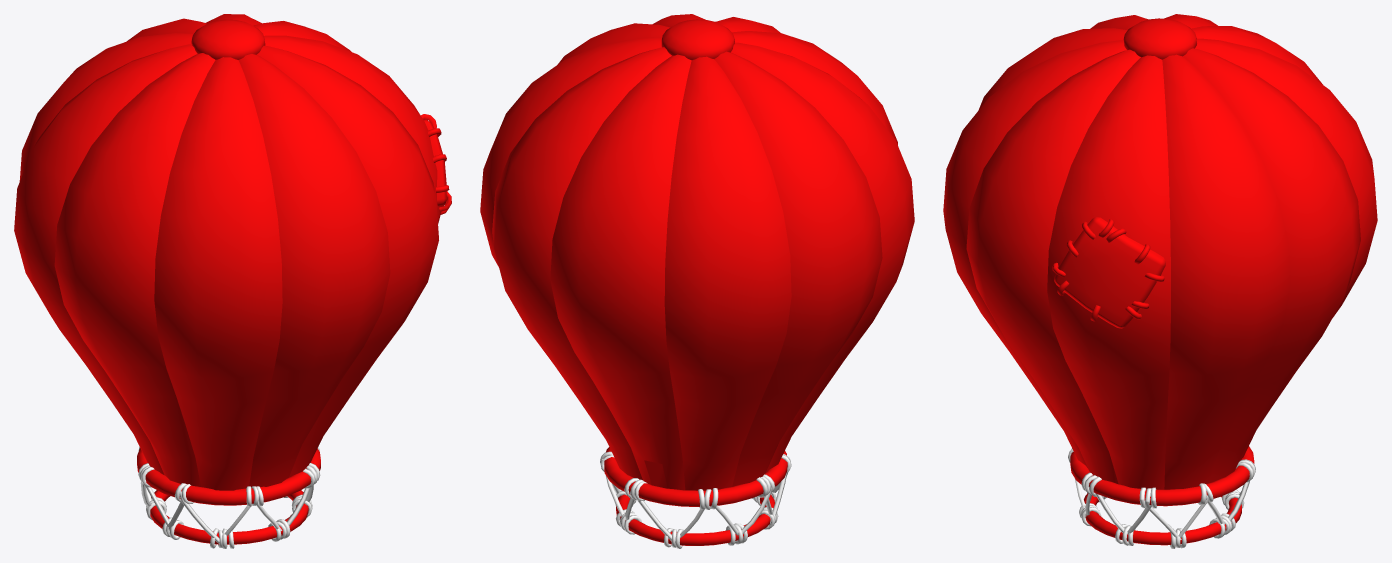
File: GreenBaloonParent.fbx
The picture shows the model from 3 angles, left to right: view 1: azimuth 30°, elevation 25°; view 2: azimuth 150°, elevation 25°; view 3: azimuth 270°, elevation 25°; orthographic projection.
Parts seen in each view (by area): view 1: air_balloon_balloon_01; view 2: air_balloon_balloon_01; view 3: air_balloon_balloon_01.
Part boxes in pixels (x1=…): air_balloon_balloon_01: x1=14, y1=14, x2=451, y2=548; air_balloon_balloon_01: x1=480, y1=14, x2=914, y2=548; air_balloon_balloon_01: x1=943, y1=14, x2=1377, y2=548.
Bounding box in the file's own units: 22.98 × 28.56 × 22.85.
